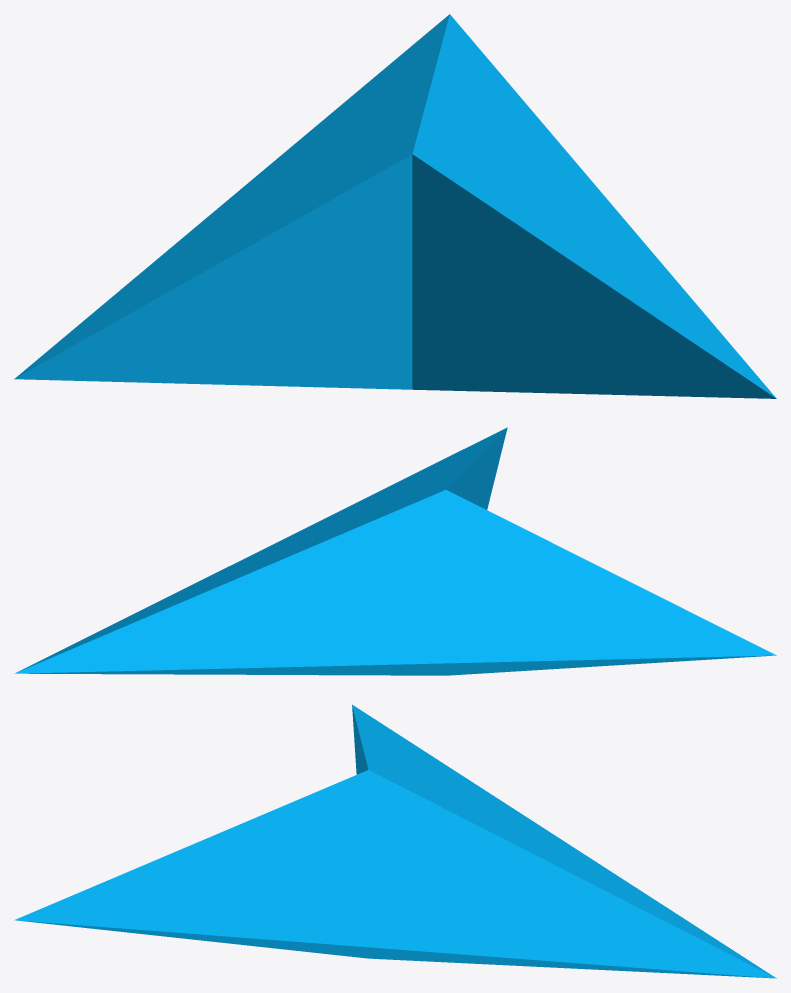
Rendered from ArrowSketchUpyzY.glb.
The picture shows the model from 3 angles, top to bottom: view 1: azimuth 30°, elevation 25°; view 2: azimuth 150°, elevation 25°; view 3: azimuth 270°, elevation 25°; orthographic projection. The views are drawn at different scales.
Parts seen in each view (by area): view 1: Mesh1_Model; view 2: Mesh1_Model; view 3: Mesh1_Model.
Boxes of the visible parts, box(x1,y1,x2,y2) form: Mesh1_Model: box(14, 14, 776, 398); Mesh1_Model: box(15, 427, 776, 675); Mesh1_Model: box(14, 704, 776, 978).
Bounding box in the file's own units: 0.0311 × 0.01 × 0.0366.
